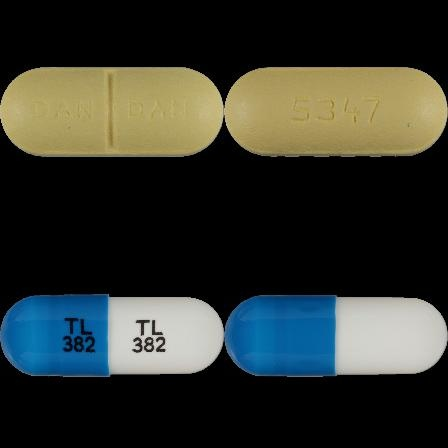69367-154: (0, 0, 224, 224)
